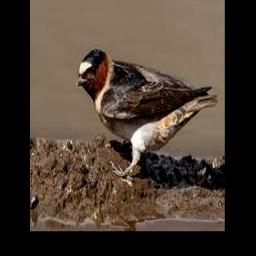Swallow: (76, 49, 216, 175)
